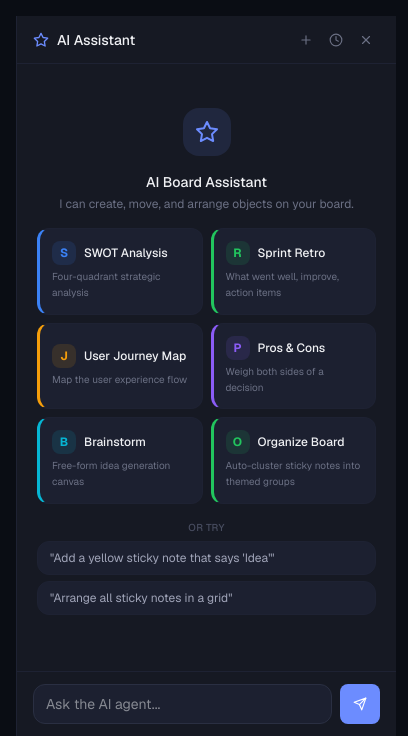
Test: AIChatPanel › shows history items when chat list has entries
Click the button titled "Chat history".
click(336, 40)  # box top-left (322, 26), bottom-right (350, 54)
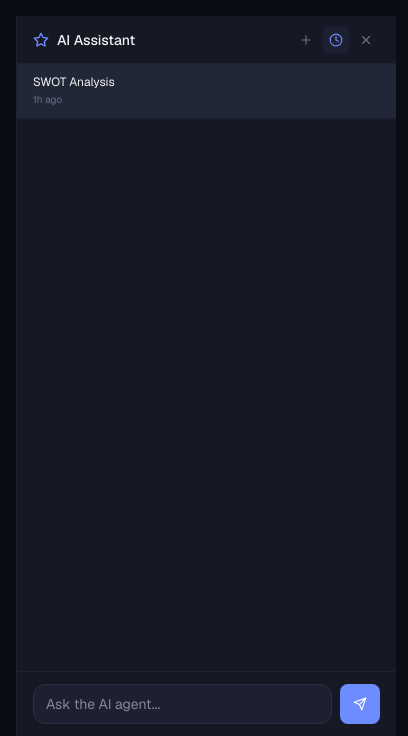
Expected: the text "SWOT Analysis" is shown, top-left (33, 74), bottom-right (115, 90)
